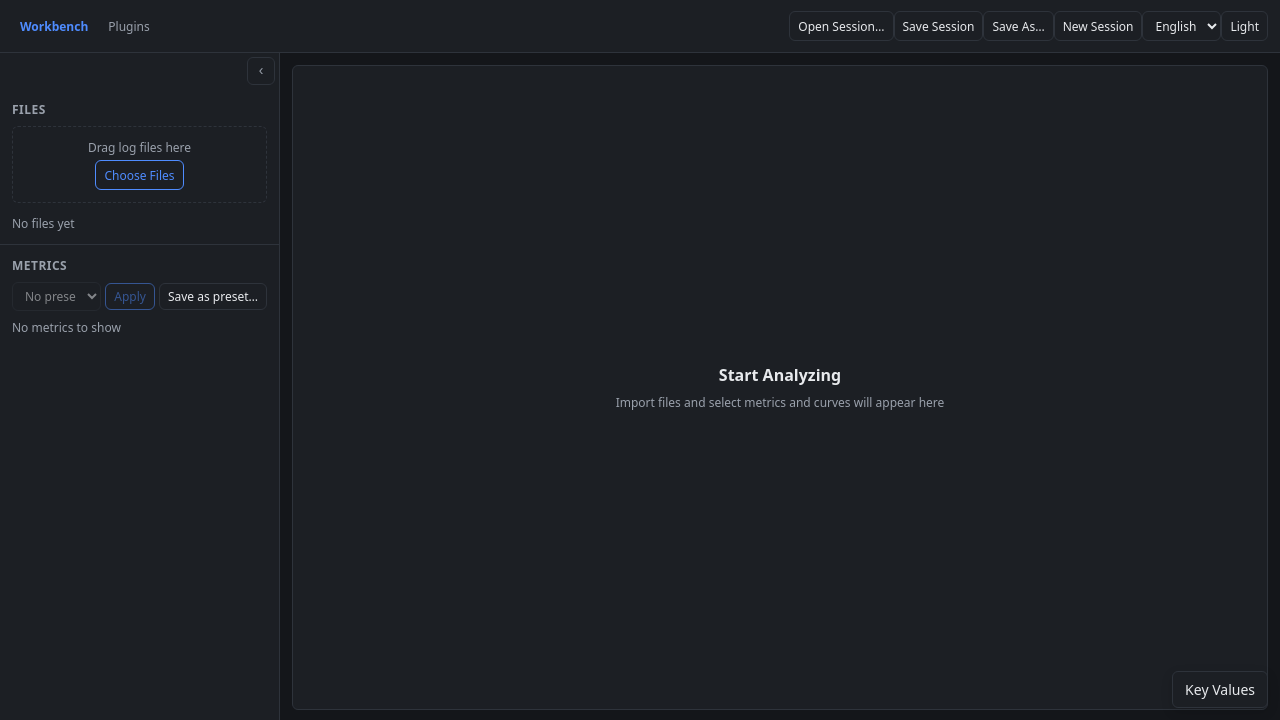
Test: task 19: viewport auto-fits the data time domain (real DTO, real mode) › P2-04: <1000px 视口右栏抽屉化——无固定右栏、左栏+中央自适应、关键值走浮层（不再受三栏最小宽溢出）
This screenshot has width=1280, height=720.
expect the element with test id "app-shell-left" is shown: met, box [0, 53, 280, 719]
Click the button with test id "kv-drawer-toggle".
click(1220, 690)  # box [1172, 671, 1268, 708]
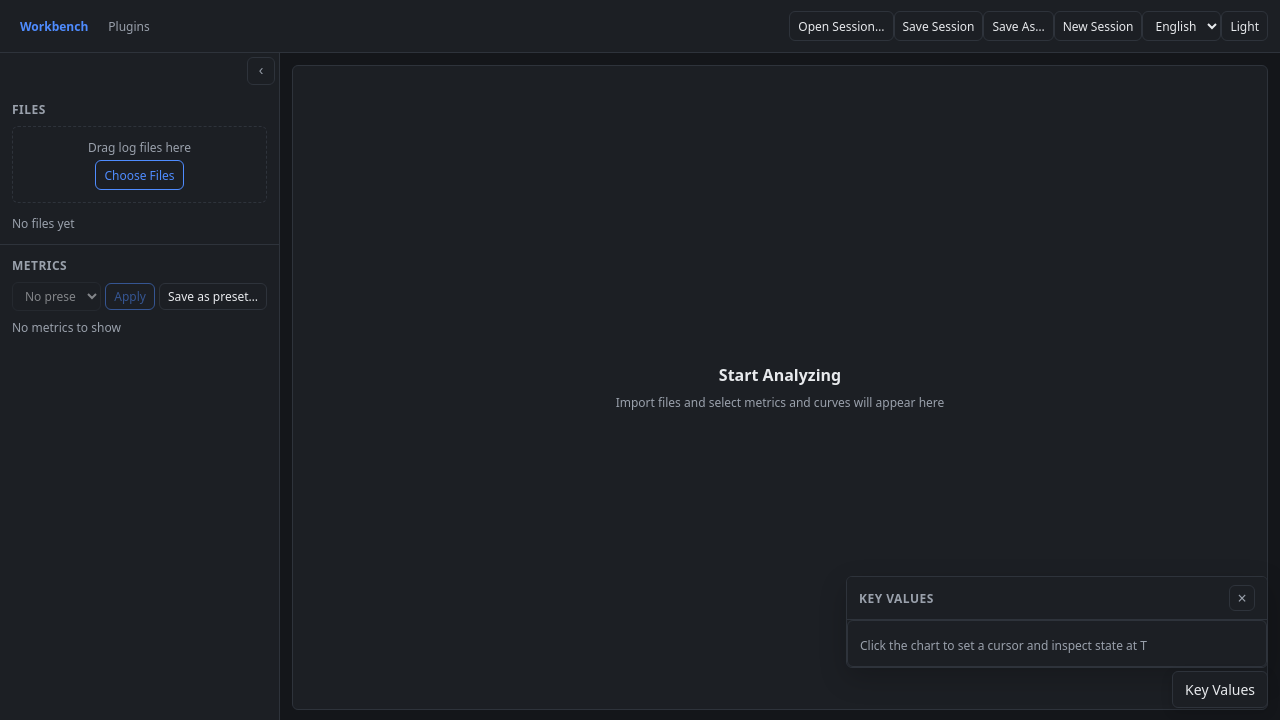
expect the element with test id "kv-drawer" is shown: met, box [846, 576, 1268, 668]
expect the element with test id "keyvalues-panel" is shown: met, box [847, 620, 1267, 667]
